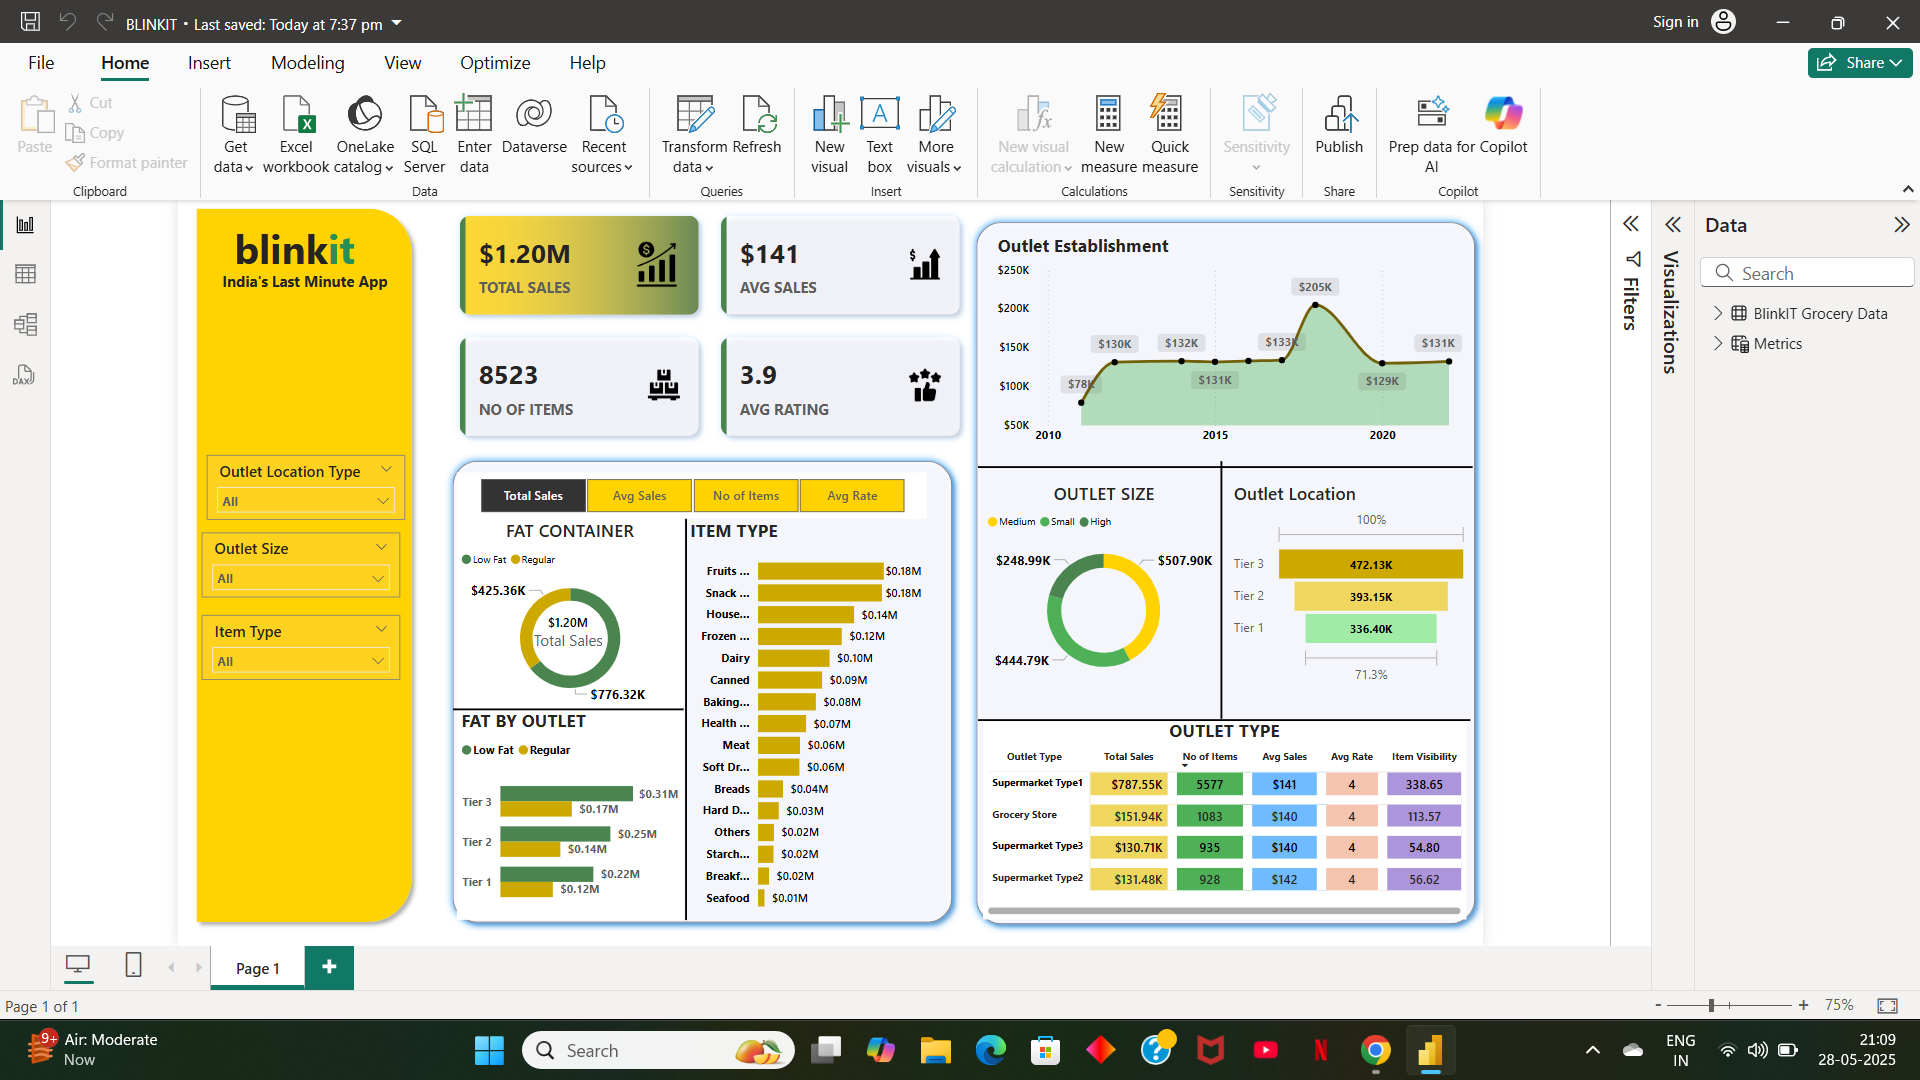

This screenshot's page, from the dashboard's own definition file:
{"tool":"powerbi","page":{"name":"Page 1","canvas":[1400,800],"ordinal":0},"visuals":[{"type":"shape","box":[10.5,0,249.1,783.5],"z":0},{"type":"textbox","box":[25,18.1,198.6,70.8],"z":1000},{"type":"textbox","box":[30,70.5,213.1,34.5],"z":2000},{"type":"cardVisual","fields":{"Data":["BlinkIT Grocery Data.Total Sales","BlinkIT Grocery Data.Avg Sales","BlinkIT Grocery Data.No of Items","BlinkIT Grocery Data.Avg Rate"]},"box":[285.2,0,570,270],"z":3000},{"type":"shape","box":[285.2,270.2,553.8,513.3],"z":4000},{"type":"donutChart","title":"FAT CONTAINER","fields":{"Y":["BlinkIT Grocery Data.Total Sales"],"Category":["BlinkIT Grocery Data.Item Fat Content"]},"box":[298.6,341.7,243.1,204.2],"z":5000},{"type":"slicer","fields":{"Values":["Metrics.Metrics"]},"box":[298.7,292.7,504.3,49.5],"z":6000},{"type":"cardVisual","fields":{"Data":["BlinkIT Grocery Data.Total Sales"]},"box":[362.5,426.4,113.9,69.4],"z":7000},{"type":"clusteredBarChart","title":"FAT BY OUTLET","fields":{"Y":["BlinkIT Grocery Data.Total Sales"],"Category":["BlinkIT Grocery Data.Outlet Location Type"],"Series":["BlinkIT Grocery Data.Item Fat Content"]},"box":[298.6,545.8,243.1,226.4],"z":8000},{"type":"shape","box":[294.4,526.4,247.2,38.9],"z":9000},{"type":"shape","box":[526.4,341.7,36.1,430.6],"z":10000},{"type":"barChart","title":"ITEM TYPE","fields":{"Y":["BlinkIT Grocery Data.Total Sales"],"Category":["BlinkIT Grocery Data.Item Type"]},"box":[544.4,341.7,258.3,430.6],"z":11000},{"type":"shape","box":[847.2,15.3,552.8,770.8],"z":12000},{"type":"lineChart","title":"Outlet Establishment","fields":{"Category":["BlinkIT Grocery Data.Outlet Establishment Year"],"Y":["BlinkIT Grocery Data.Total Sales"]},"box":[873.6,36.1,508.3,234.7],"z":13000},{"type":"donutChart","title":"OUTLET SIZE","fields":{"Y":["BlinkIT Grocery Data.Total Sales"],"Category":["BlinkIT Grocery Data.Outlet Size"]},"box":[863.9,301.4,259.7,225],"z":14000},{"type":"shape","box":[1109.7,280.6,18.1,277.8],"z":15000},{"type":"funnel","title":" Outlet Location ","fields":{"Category":["BlinkIT Grocery Data.Outlet Location Type"],"Y":["Sum(BlinkIT Grocery Data.Sales)"]},"box":[1127.8,301.4,261.1,222.2],"z":16000},{"type":"pivotTable","title":"OUTLET TYPE","fields":{"Rows":["BlinkIT Grocery Data.Outlet Type"],"Values":["BlinkIT Grocery Data.Total Sales","BlinkIT Grocery Data.No of Items","BlinkIT Grocery Data.Avg Sales","BlinkIT Grocery Data.Avg Rate","Sum(BlinkIT Grocery Data.Item Visibility)"]},"box":[863.9,556.9,518.1,215.3],"z":17000},{"type":"shape","box":[858.3,551.4,527.8,13.9],"z":18000},{"type":"shape","box":[858.3,280.6,530.6,12.5],"z":19000},{"type":"slicer","fields":{"Values":["BlinkIT Grocery Data.Outlet Location Type"]},"box":[30.6,273.6,212.5,69.4],"z":20000},{"type":"slicer","fields":{"Values":["BlinkIT Grocery Data.Outlet Size"]},"box":[25,356.9,212.5,69.4],"z":21000},{"type":"slicer","fields":{"Values":["BlinkIT Grocery Data.Item Type"]},"box":[25,444.4,212.5,69.4],"z":22000}]}

Visuals, with their boxes on the page's 1400x800 design canvas (x1, y1, x2, y2). These are canvas units, not pixel positions in the 1920x1080 screenshot, which may show the page scaled, cropped or inside an application window:
shape: <box>10,0,260,784</box>
textbox: <box>25,18,224,89</box>
textbox: <box>30,70,243,105</box>
cardVisual - BlinkIT Grocery Data.Total Sales x BlinkIT Grocery Data.Avg Sales: <box>285,0,855,270</box>
shape: <box>285,270,839,784</box>
"FAT CONTAINER" donutChart: <box>299,342,542,546</box>
slicer - Metrics.Metrics: <box>299,293,803,342</box>
cardVisual - BlinkIT Grocery Data.Total Sales: <box>362,426,476,496</box>
"FAT BY OUTLET" clusteredBarChart: <box>299,546,542,772</box>
shape: <box>294,526,542,565</box>
shape: <box>526,342,562,772</box>
"ITEM TYPE" barChart: <box>544,342,803,772</box>
shape: <box>847,15,1400,786</box>
"Outlet Establishment" lineChart: <box>874,36,1382,271</box>
"OUTLET SIZE" donutChart: <box>864,301,1124,526</box>
shape: <box>1110,281,1128,558</box>
" Outlet Location " funnel: <box>1128,301,1389,524</box>
"OUTLET TYPE" pivotTable: <box>864,557,1382,772</box>
shape: <box>858,551,1386,565</box>
shape: <box>858,281,1389,293</box>
slicer - BlinkIT Grocery Data.Outlet Location Type: <box>31,274,243,343</box>
slicer - BlinkIT Grocery Data.Outlet Size: <box>25,357,238,426</box>
slicer - BlinkIT Grocery Data.Item Type: <box>25,444,238,514</box>
